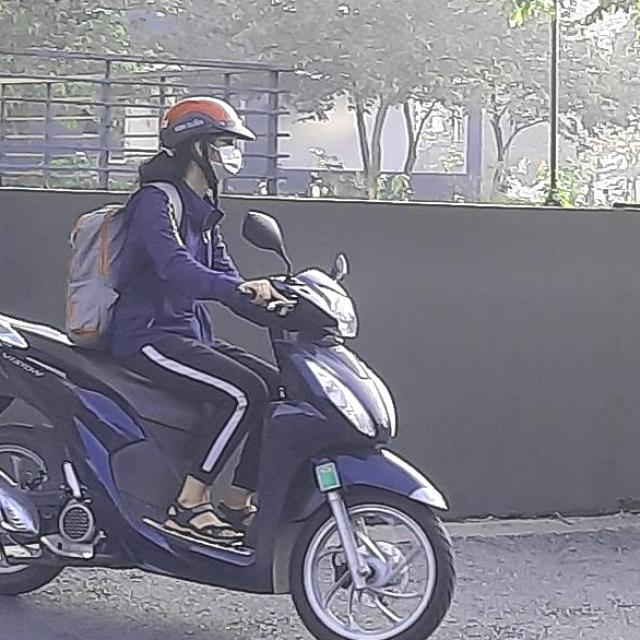Helmet: (156, 92, 258, 185)
